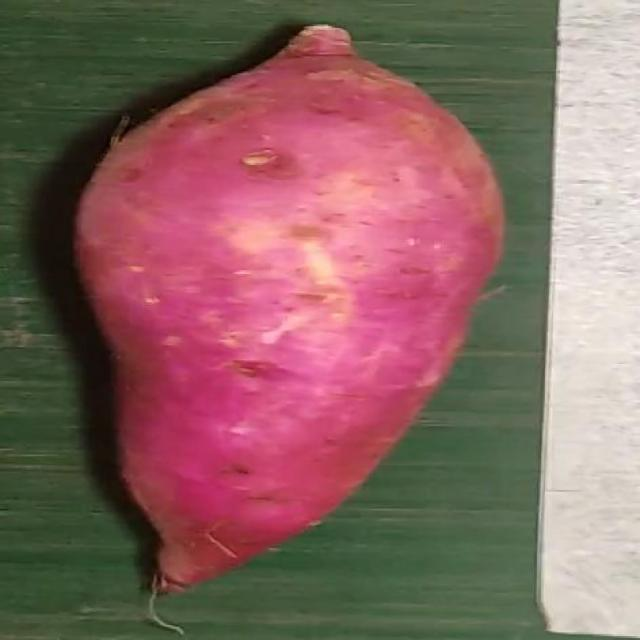Sweet Potato: (74, 24, 507, 597)
